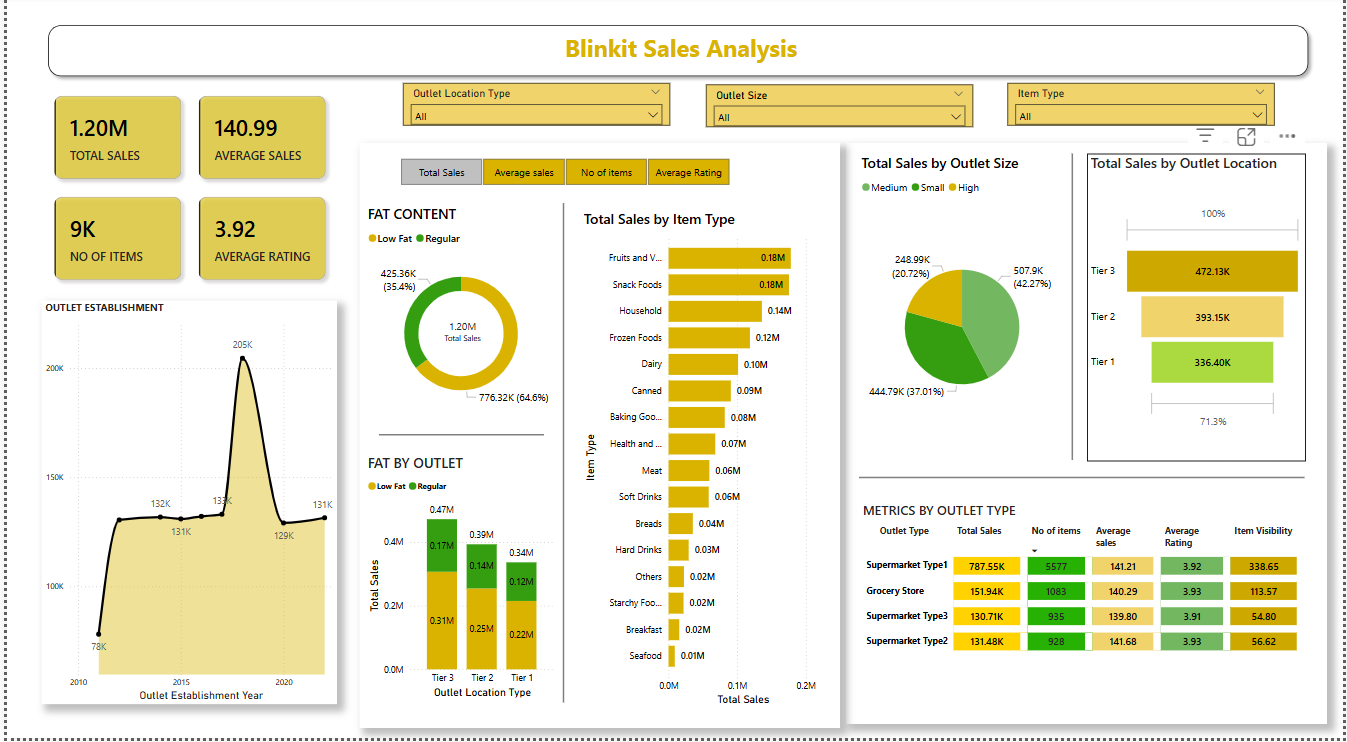

What the dashboard file says about the page in this screenshot:
{"tool":"powerbi","page":{"name":"Page 1","canvas":[1800,1000],"ordinal":0},"visuals":[{"type":"shape","box":[46.5,410.4,398.3,543.8],"z":0},{"type":"shape","box":[474.8,198,647.3,787.9],"z":1000},{"type":"shape","box":[1130.7,198,649.5,783.6],"z":2000},{"type":"shape","box":[46.8,144.8,398.2,255.5],"z":3000},{"type":"shape","box":[46.5,30.3,1716.3,86.9],"z":4000},{"type":"textbox","box":[76.7,42.6,1663,57.5],"z":5000},{"type":"cardVisual","fields":{"Data":["BlinkIT Grocery Data.Total Sales","BlinkIT Grocery Data.Average sales","BlinkIT Grocery Data.No of items","BlinkIT Grocery Data.Average Rating"]},"box":[46.8,117.1,400.3,283.2],"z":6000},{"type":"donutChart","title":" FAT CONTENT","fields":{"Y":["BlinkIT Grocery Data.Total Sales"],"Category":["BlinkIT Grocery Data.Item Fat Content"]},"box":[481.1,281,260.8,293.1],"z":7000},{"type":"slicer","fields":{"Values":["Metrics.Metrics"]},"box":[504.7,212.9,491.9,49],"z":8000},{"type":"cardVisual","fields":{"Data":["BlinkIT Grocery Data.Total Sales"]},"box":[560,419.5,108.6,53.2],"z":9000},{"type":"columnChart","title":"FAT BY OUTLET","fields":{"Y":["BlinkIT Grocery Data.Total Sales"],"Category":["BlinkIT Grocery Data.Outlet Location Type"],"Series":["BlinkIT Grocery Data.Item Fat Content"]},"box":[481.1,616.6,260.8,333.6],"z":10000},{"type":"shape","box":[501.4,580.2,222.4,22.2],"z":11000},{"type":"shape","box":[741.9,279,16.2,673.2],"z":12000},{"type":"barChart","fields":{"Y":["BlinkIT Grocery Data.Total Sales"],"Category":["BlinkIT Grocery Data.Item Type"]},"box":[772.3,287.1,339.6,673.2],"z":13000},{"type":"lineChart","title":"OUTLET ESTABLISHMENT","fields":{"Category":["BlinkIT Grocery Data.Outlet Establishment Year"],"Y":["BlinkIT Grocery Data.Total Sales"]},"box":[46.5,410.4,398.3,543.8],"z":14000},{"type":"pieChart","fields":{"Category":["BlinkIT Grocery Data.Outlet Size"],"Y":["BlinkIT Grocery Data.Total Sales"]},"box":[1145.6,212.9,281.1,413.1],"z":15000},{"type":"funnel","title":"Total Sales by Outlet Location","fields":{"Category":["BlinkIT Grocery Data.Outlet Location Type"],"Y":["BlinkIT Grocery Data.Total Sales"]},"box":[1456.5,212.9,293.9,413.1],"z":16000},{"type":"shape","box":[1426.7,212.9,17,413.1],"z":17000},{"type":"shape","box":[1148.3,616.6,600.4,64.7],"z":18000},{"type":"pivotTable","title":"METRICS BY OUTLET TYPE","fields":{"Rows":["BlinkIT Grocery Data.Outlet Type"],"Values":["BlinkIT Grocery Data.Total Sales","BlinkIT Grocery Data.No of items","BlinkIT Grocery Data.Average sales","BlinkIT Grocery Data.Average Rating","Sum(BlinkIT Grocery Data.Item Visibility)"]},"box":[1148.3,681.3,614.6,281],"z":19000},{"type":"slicer","fields":{"Values":["BlinkIT Grocery Data.Outlet Location Type"]},"box":[534.5,117.1,359.9,57.5],"z":20000},{"type":"slicer","fields":{"Values":["BlinkIT Grocery Data.Outlet Size"]},"box":[941.2,119.2,359.9,57.5],"z":21000},{"type":"slicer","fields":{"Values":["BlinkIT Grocery Data.Item Type"]},"box":[1347.9,117.1,359.9,57.5],"z":22000}]}

Visuals, with their boxes in screenshot pixels (x1, y1, x2, y2), scaled from the page's 1800x1000 canvas onto the 1347x742 screenshot:
shape: [x1=35, y1=305, x2=333, y2=708]
shape: [x1=355, y1=147, x2=840, y2=732]
shape: [x1=846, y1=147, x2=1332, y2=728]
shape: [x1=35, y1=107, x2=333, y2=297]
shape: [x1=35, y1=22, x2=1319, y2=87]
textbox: [x1=57, y1=32, x2=1302, y2=74]
cardVisual - BlinkIT Grocery Data.Total Sales x BlinkIT Grocery Data.Average sales: [x1=35, y1=87, x2=335, y2=297]
" FAT CONTENT" donutChart: [x1=360, y1=209, x2=555, y2=426]
slicer - Metrics.Metrics: [x1=378, y1=158, x2=746, y2=194]
cardVisual - BlinkIT Grocery Data.Total Sales: [x1=419, y1=311, x2=500, y2=351]
"FAT BY OUTLET" columnChart: [x1=360, y1=458, x2=555, y2=705]
shape: [x1=375, y1=431, x2=542, y2=447]
shape: [x1=555, y1=207, x2=567, y2=707]
barChart - BlinkIT Grocery Data.Total Sales x BlinkIT Grocery Data.Item Type: [x1=578, y1=213, x2=832, y2=713]
"OUTLET ESTABLISHMENT" lineChart: [x1=35, y1=305, x2=333, y2=708]
pieChart - BlinkIT Grocery Data.Outlet Size x BlinkIT Grocery Data.Total Sales: [x1=857, y1=158, x2=1068, y2=464]
"Total Sales by Outlet Location" funnel: [x1=1090, y1=158, x2=1310, y2=464]
shape: [x1=1068, y1=158, x2=1080, y2=464]
shape: [x1=859, y1=458, x2=1309, y2=506]
"METRICS BY OUTLET TYPE" pivotTable: [x1=859, y1=506, x2=1319, y2=714]
slicer - BlinkIT Grocery Data.Outlet Location Type: [x1=400, y1=87, x2=669, y2=130]
slicer - BlinkIT Grocery Data.Outlet Size: [x1=704, y1=88, x2=974, y2=131]
slicer - BlinkIT Grocery Data.Item Type: [x1=1009, y1=87, x2=1278, y2=130]
